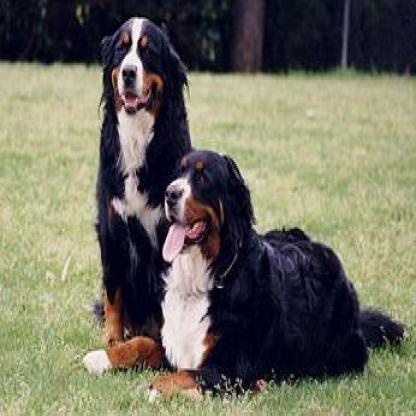Bernese_mountain_dog: (160, 143, 404, 389), (88, 13, 190, 380)
